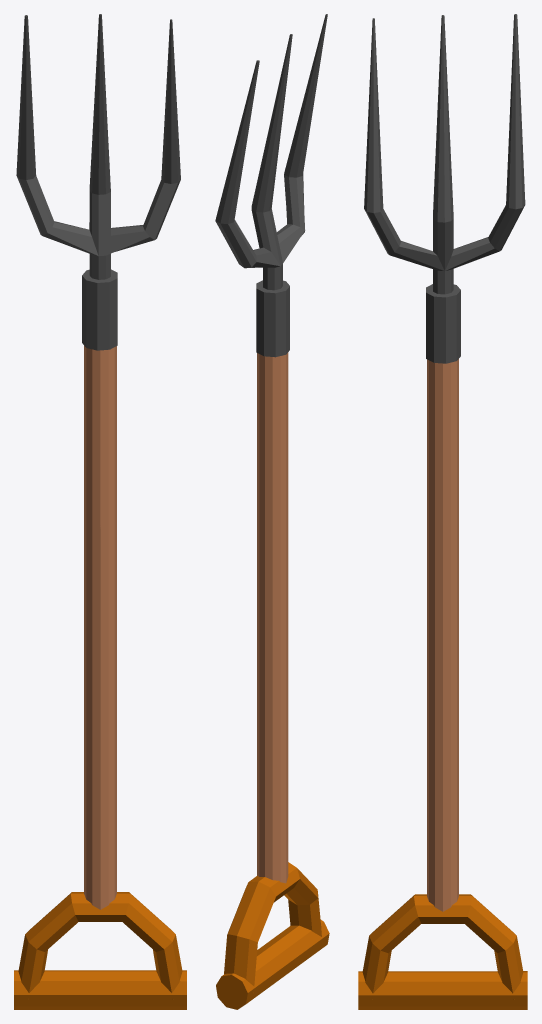
The model's file is pitchfork.fbx.
3 renders of one model, left to right at view 1: azimuth 90°, elevation 25°; view 2: azimuth 150°, elevation 25°; view 3: azimuth 270°, elevation 25°, orthographic. The views are drawn at different scales.
Parts seen in each view (by area): view 1: Cylinder, Cylinder.001, Torus; view 2: Cylinder, Cylinder.001, Torus; view 3: Cylinder, Cylinder.001, Torus.
Boxes of the visible parts, x1=… form: Cylinder: x1=84, y1=345, x2=116, y2=909; Cylinder.001: x1=16, y1=14, x2=180, y2=350; Torus: x1=14, y1=892, x2=186, y2=1009; Cylinder: x1=257, y1=352, x2=288, y2=883; Cylinder.001: x1=215, y1=14, x2=327, y2=357; Torus: x1=216, y1=862, x2=329, y2=1009; Cylinder: x1=427, y1=359, x2=458, y2=911; Cylinder.001: x1=364, y1=14, x2=525, y2=363; Torus: x1=358, y1=894, x2=527, y2=1009.
Size of the model in its own units: 16.18 by 336 by 52.46.
